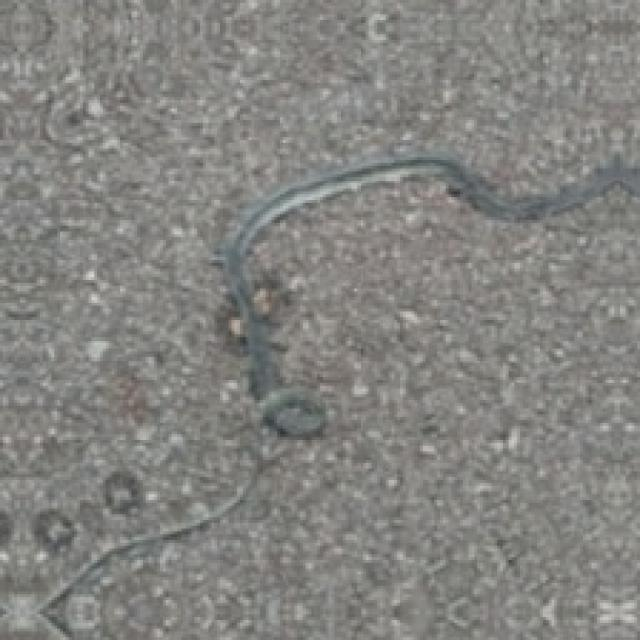paradise tree snake: (3, 180, 637, 637), (217, 151, 637, 434)
